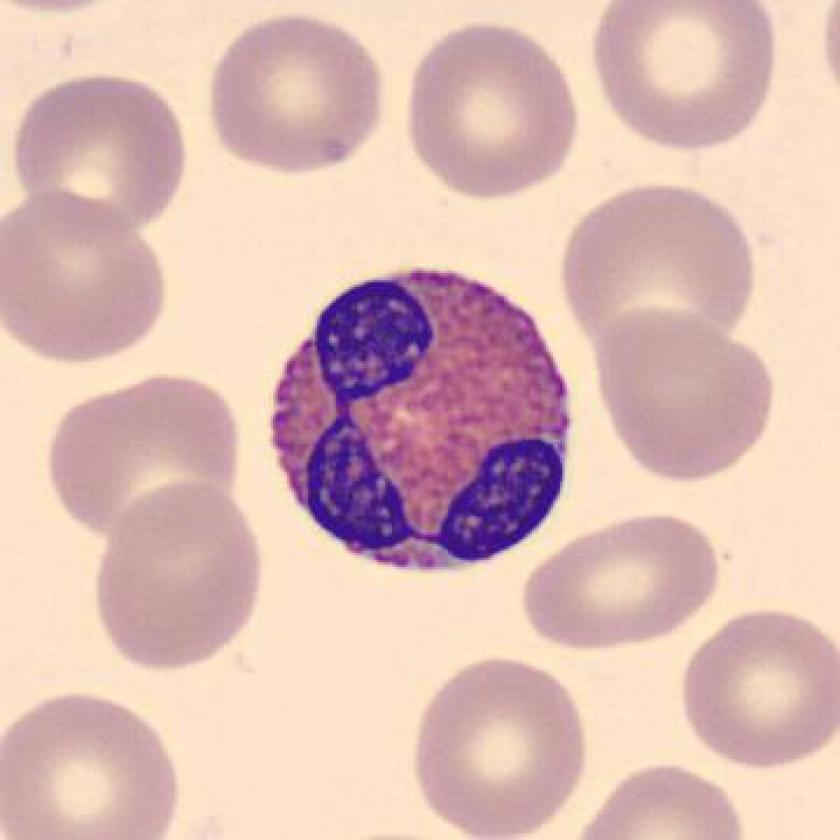eosinophil: (262, 254, 582, 587)
